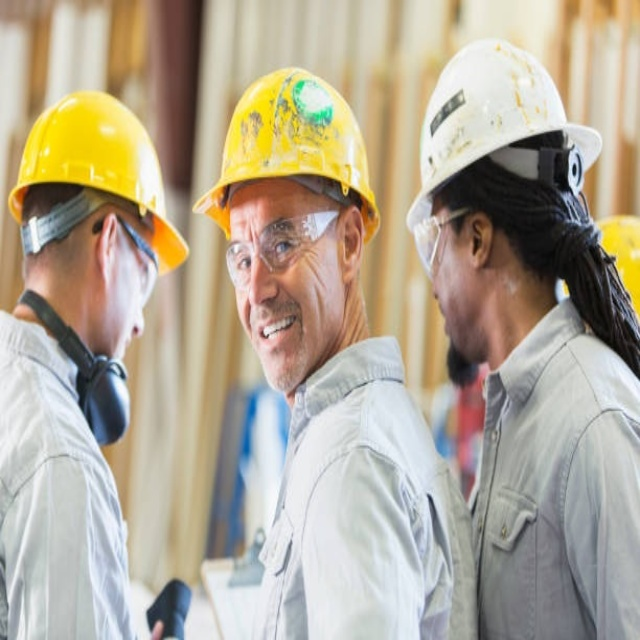Gafas: (228, 205, 344, 292), (410, 201, 475, 278), (116, 209, 160, 307)
Sin_mascara: (248, 296, 310, 376), (430, 271, 477, 350), (105, 314, 146, 356)
